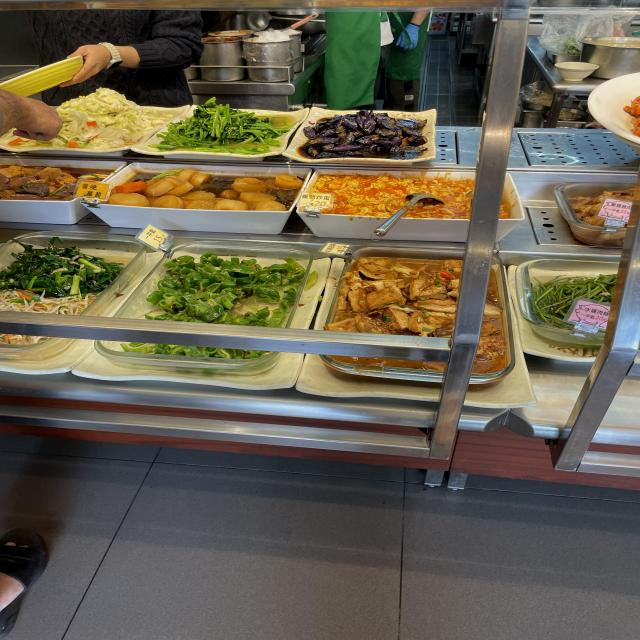Scramble Egg with Tomatoes: (342, 179, 391, 214)
cabbage: (74, 105, 132, 144)
eggplant: (329, 122, 415, 153)
